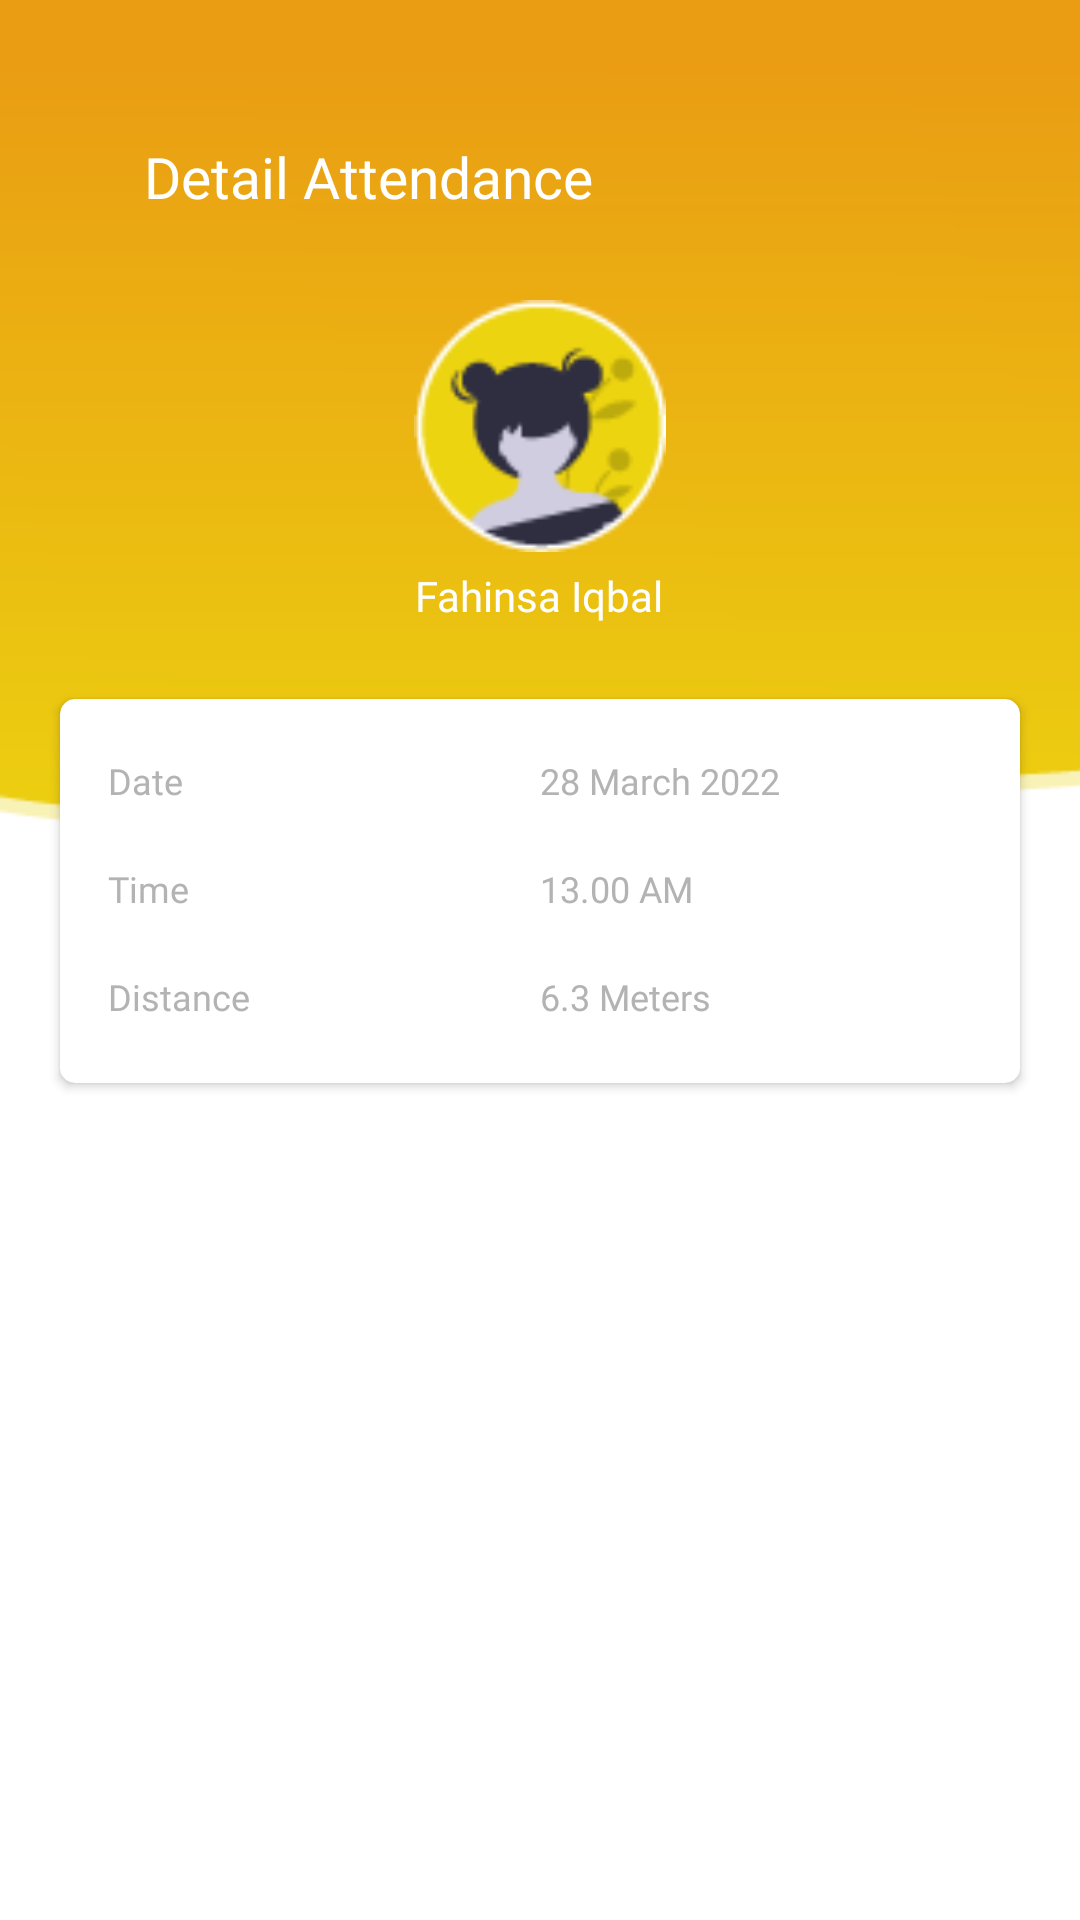

Named icons in this screenshot (1080*1920) and their centers, [x,y]:
women user: [540,426]
